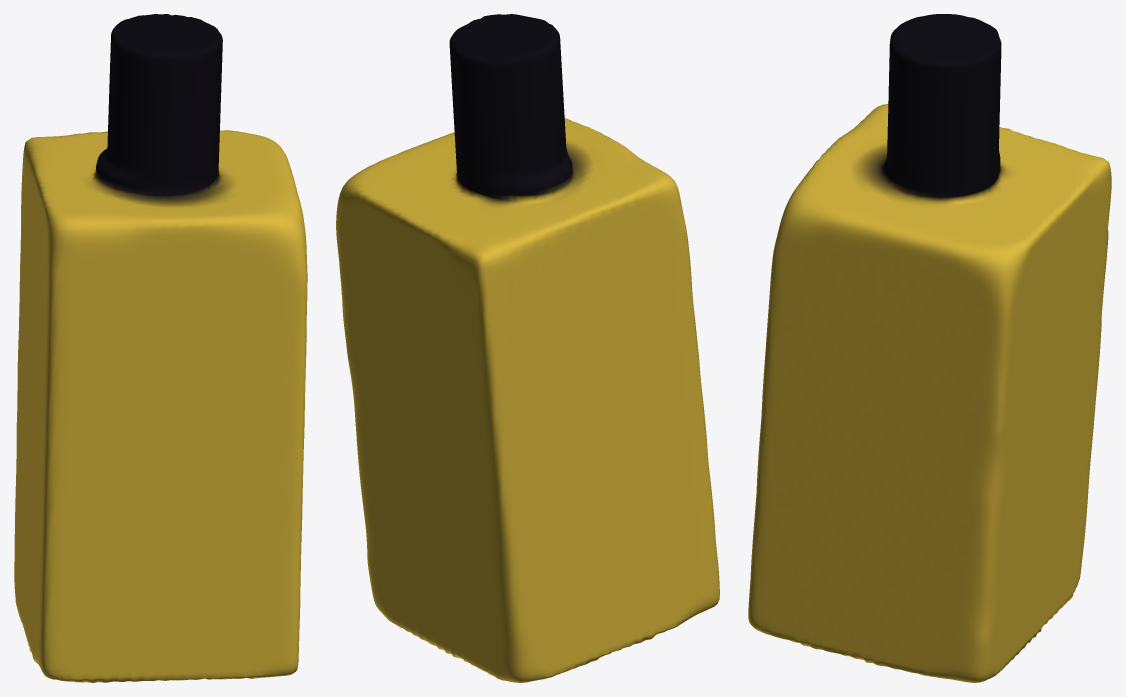
The picture shows the model from 3 angles, left to right: view 1: azimuth 30°, elevation 25°; view 2: azimuth 150°, elevation 25°; view 3: azimuth 270°, elevation 25°; orthographic projection.
Parts seen in each view (by area): view 1: ReferenceModel_Selection_14; view 2: ReferenceModel_Selection_14; view 3: ReferenceModel_Selection_14.
Boxes of the visible parts, x1,y1,x2,y2 form: ReferenceModel_Selection_14: (14,14,307,682); ReferenceModel_Selection_14: (336,14,719,682); ReferenceModel_Selection_14: (748,14,1111,682).
Size of the model in its own units: 24.91 by 45.79 by 25.27.
